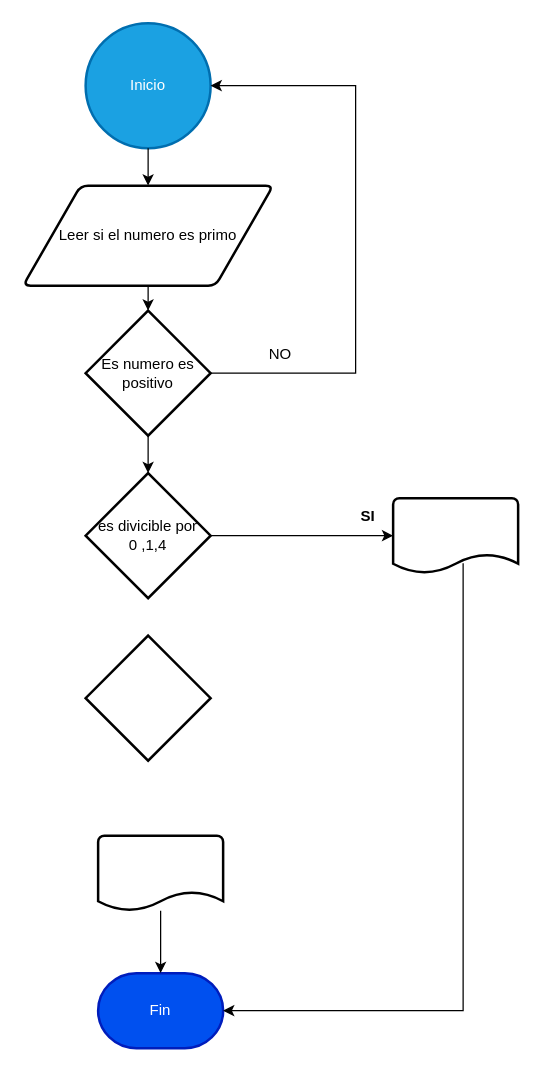
Some shapes in this 540 by 1070 pixel diagram are drawn without their labels. The shapes that lost their labels are listed below. From the top down, each one's centre as x and y in pixels, then its label:
(455,535): No es primo
(147,697): es divicible por si mismo
(160,872): B "Es el mayor"
